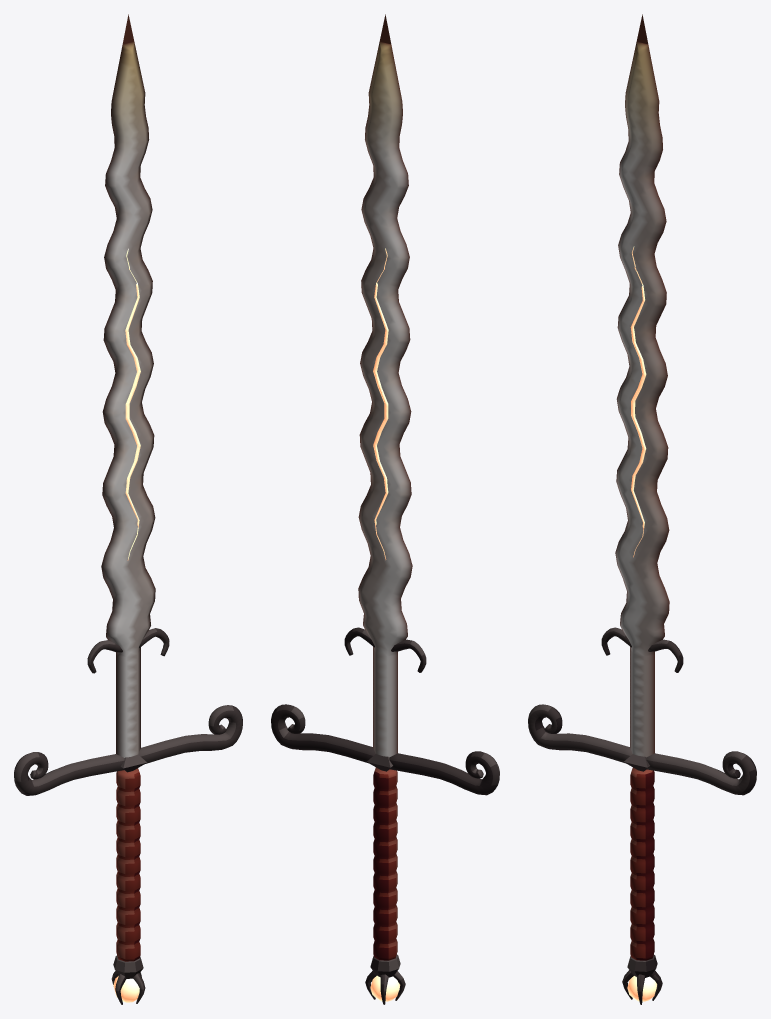
File: w_ember_flamberge.glb
The picture shows the model from 3 angles, left to right: view 1: azimuth 30°, elevation 25°; view 2: azimuth 150°, elevation 25°; view 3: azimuth 330°, elevation 25°; orthographic projection.
Parts seen in each view (by area): view 1: Weapon; view 2: Weapon; view 3: Weapon.
Boxes of the visible parts, x1=… form: Weapon: x1=14, y1=14, x2=242, y2=1004; Weapon: x1=271, y1=14, x2=499, y2=1004; Weapon: x1=528, y1=14, x2=756, y2=1004.
Size of the model in its own units: 0.4038 by 1.66 by 0.058.
